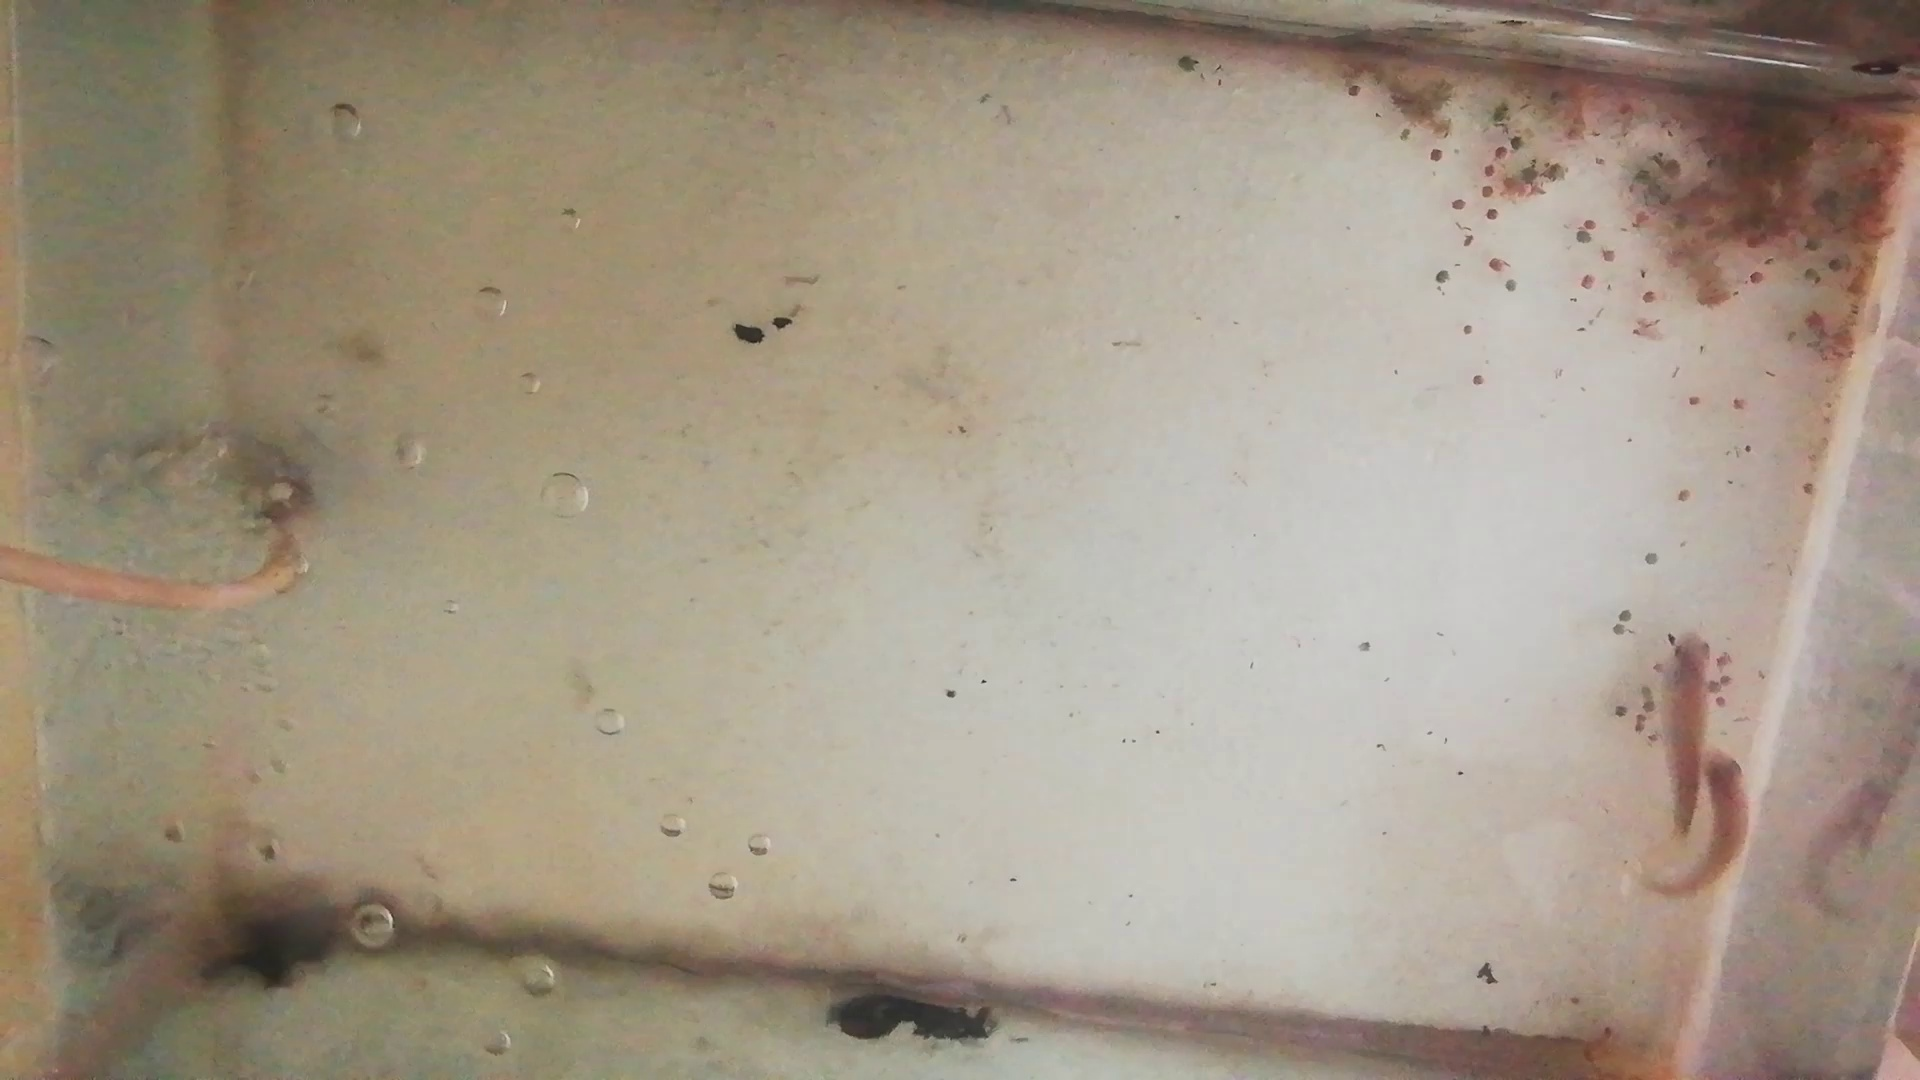fish: (1665, 746, 1753, 911), (1662, 626, 1714, 836)
